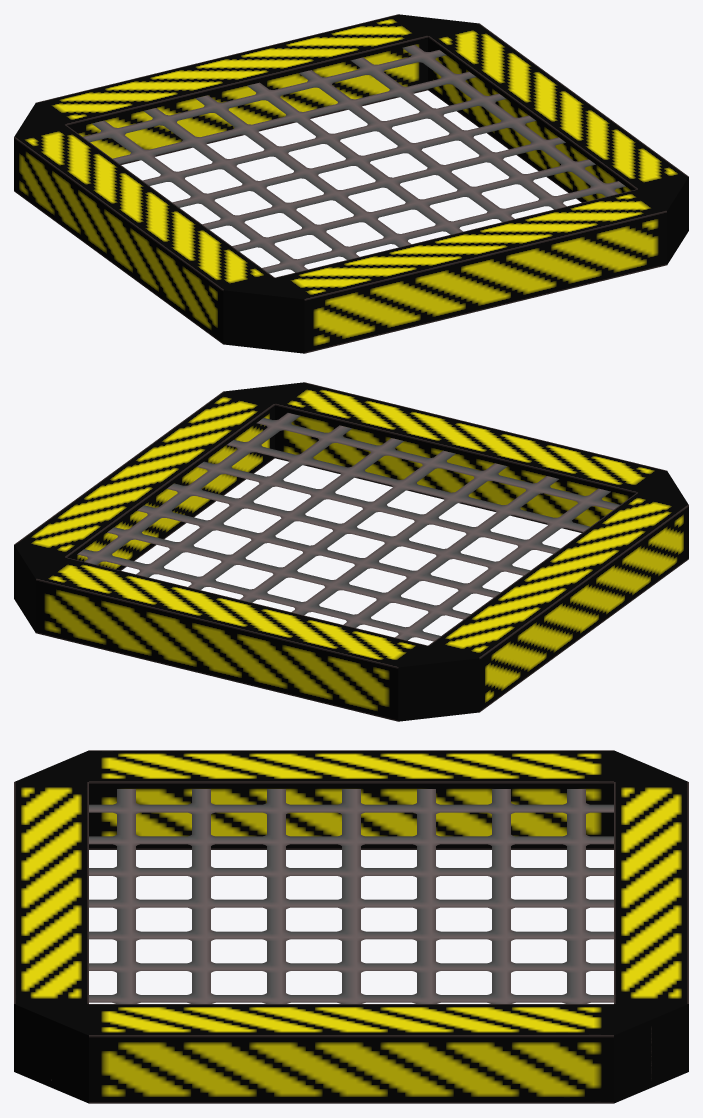
File: Platform_7_1.fbx
3 renders of one model, top to bottom at view 1: azimuth 30°, elevation 25°; view 2: azimuth 150°, elevation 25°; view 3: azimuth 270°, elevation 25°, orthographic. The views are drawn at different scales.
Visible parts, largest first — view 1: Metal_Platform_0; view 2: Metal_Platform_0; view 3: Metal_Platform_0.
Boxes of the visible parts, left/top/right/bottom form: Metal_Platform_0: left=14, top=14, right=688, bottom=353; Metal_Platform_0: left=14, top=382, right=688, bottom=721; Metal_Platform_0: left=14, top=750, right=688, bottom=1103.
Size of the model in its own units: 225 by 25 by 225.
Materials: 1 (1 with a texture image).
